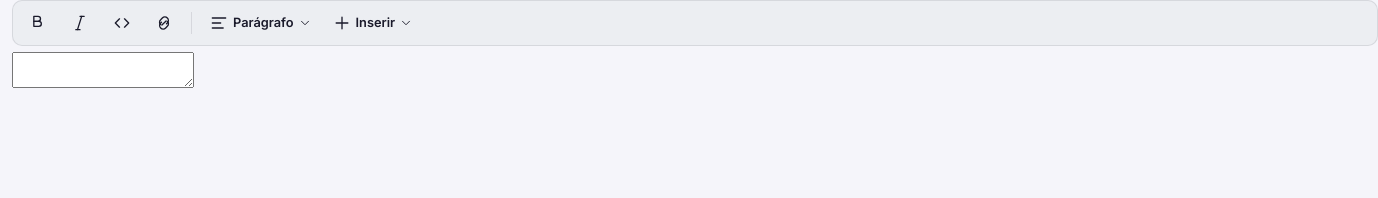
Test: MarkdownToolbar › dropdown Parágrafo não lista H1
What coordinates should you click on to do the following:
click the button with aria-label "Estilo de parágrafo"
I would click on:
 (259, 23)
Its box is [200,7,319,39].
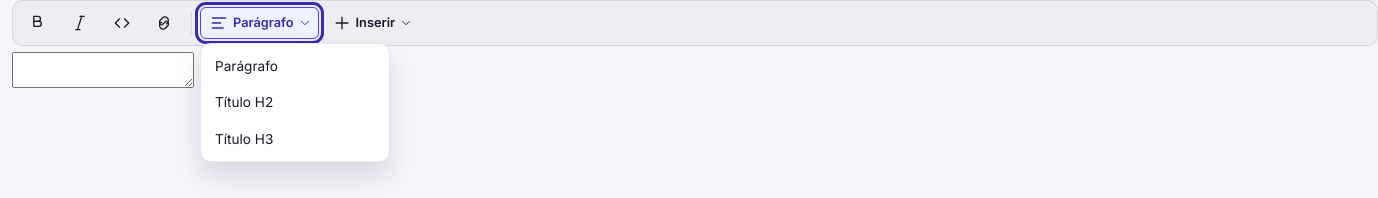
Expected: the 2nd button "Parágrafo" is shown, [205,48,385,84]
Expected: the button "Título H2" is shown, [205,84,385,121]
Expected: the button "Título H3" is shown, [205,121,385,157]
